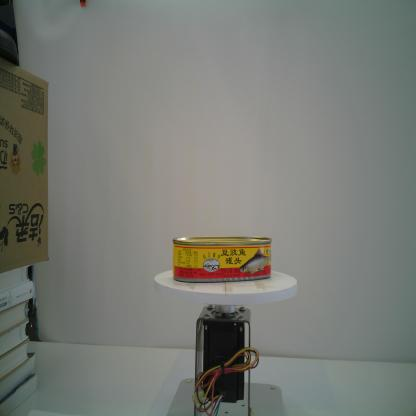Canned Food: (170, 232, 274, 283)
